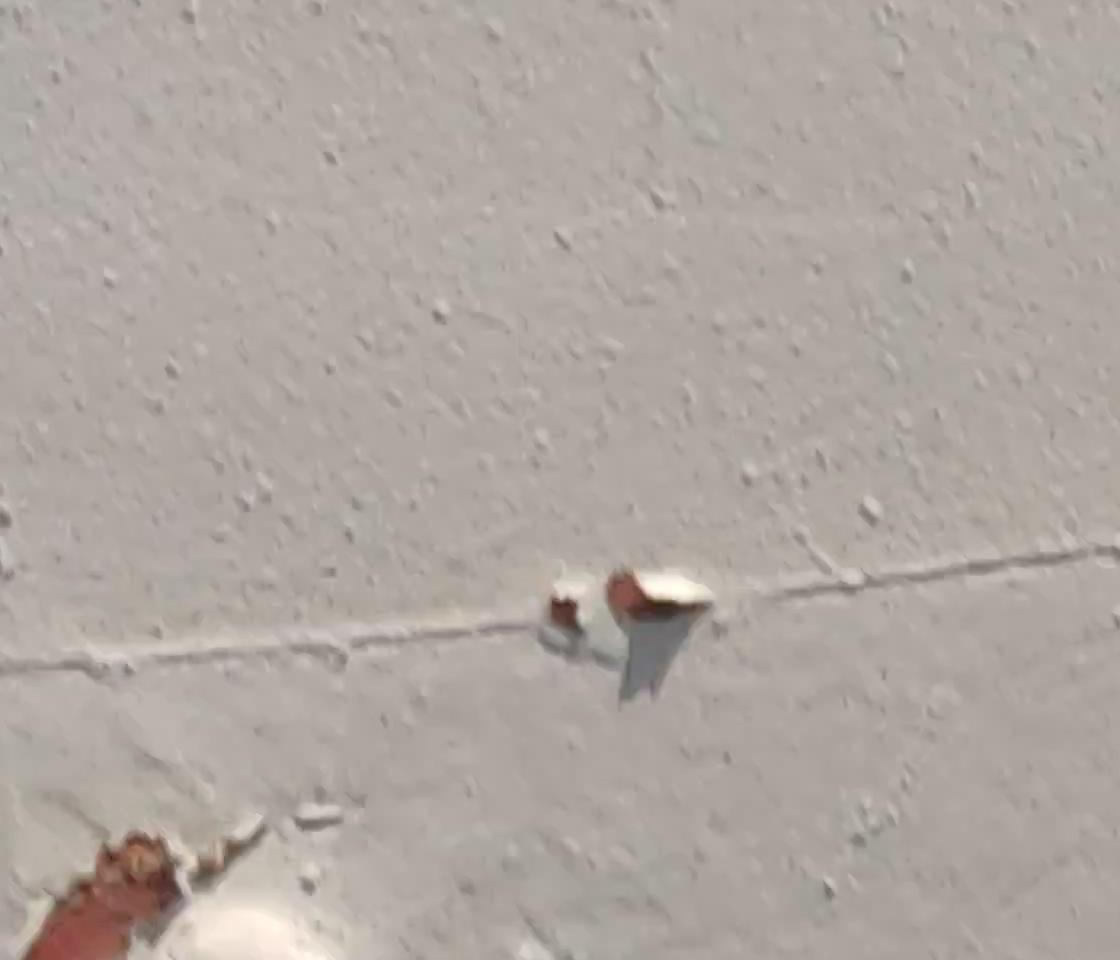paint_peel: (3, 820, 235, 960), (520, 562, 730, 654)
